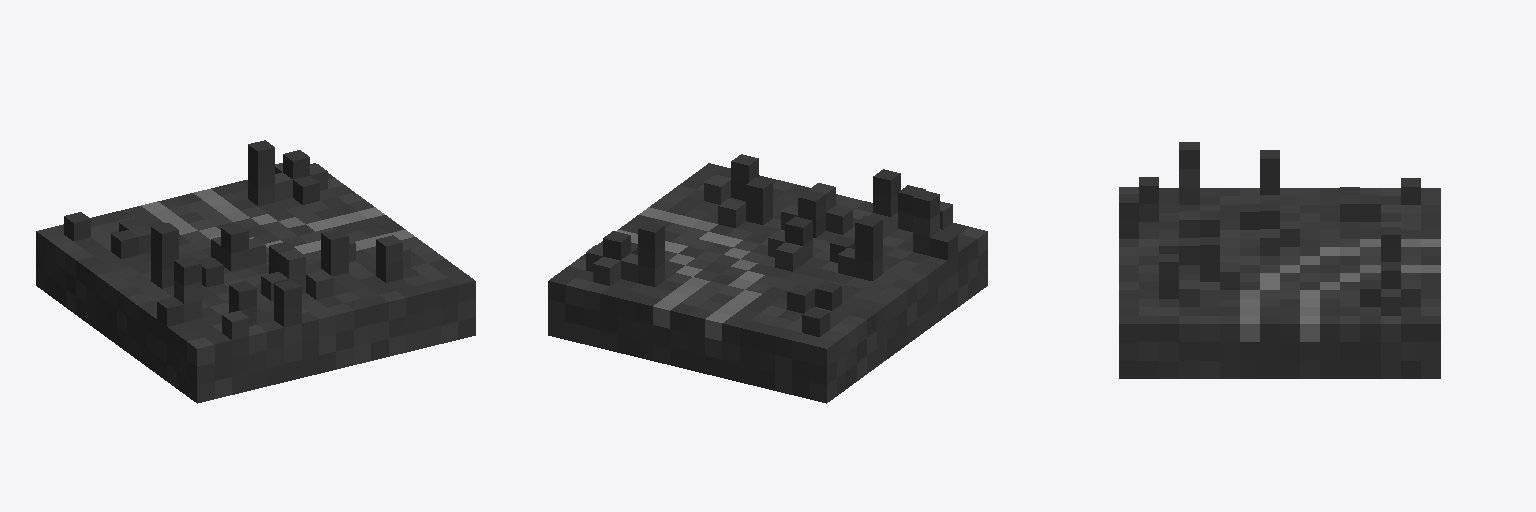
3 renders of one model, left to right at view 1: azimuth 30°, elevation 25°; view 2: azimuth 150°, elevation 25°; view 3: azimuth 270°, elevation 25°, orthographic.
Visible parts, largest first — view 1: CaveTrainCorner; view 2: CaveTrainCorner; view 3: CaveTrainCorner.
Part boxes in pixels (x1,y1,x2,y2): CaveTrainCorner: (36,140,475,403); CaveTrainCorner: (548,154,987,403); CaveTrainCorner: (1119,142,1440,378).
Bounding box in the file's own units: 16 × 6 × 16.
1 materials, 1 textured.